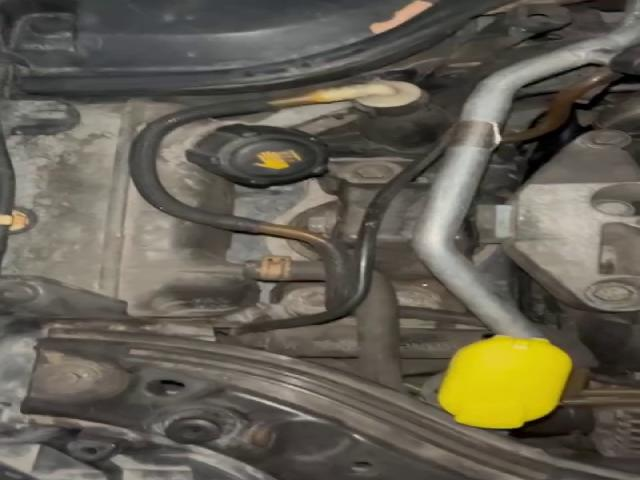antifreeze_tank: (4, 102, 258, 316), (157, 120, 327, 212)
